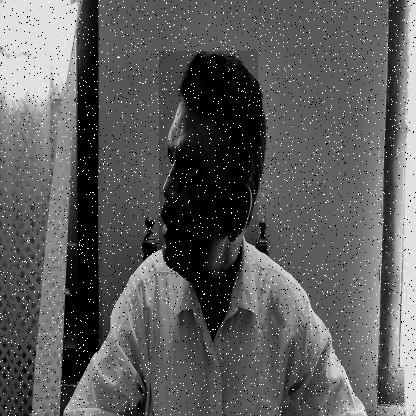Distracted: (159, 51, 258, 272)
